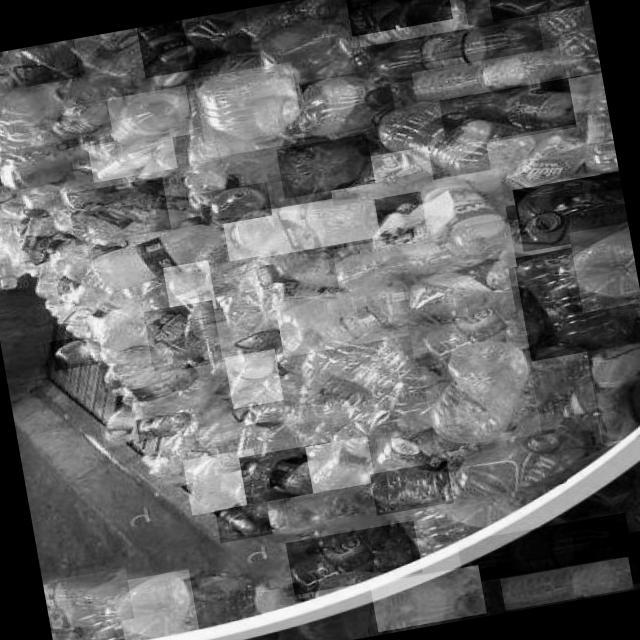defected: (362, 87, 522, 200), (512, 237, 640, 361), (330, 218, 516, 298), (418, 334, 542, 452), (351, 15, 544, 89), (456, 511, 632, 583), (220, 191, 380, 263), (438, 72, 588, 146), (410, 42, 588, 104), (192, 62, 304, 158), (85, 219, 228, 294), (394, 244, 514, 330), (284, 520, 421, 595), (274, 280, 409, 356), (436, 428, 567, 504), (484, 124, 602, 208), (512, 171, 630, 252), (418, 168, 512, 259), (284, 66, 396, 140), (368, 564, 486, 632), (203, 256, 275, 363), (66, 177, 172, 246), (498, 556, 632, 610), (567, 222, 640, 312), (325, 146, 434, 206), (275, 134, 374, 198), (114, 568, 200, 640), (408, 302, 518, 358), (238, 442, 336, 504), (142, 300, 222, 374), (43, 568, 133, 633), (182, 448, 263, 516), (586, 341, 640, 443), (566, 72, 618, 176), (352, 0, 467, 47), (106, 85, 192, 147), (49, 79, 129, 141), (368, 460, 452, 516), (86, 130, 176, 182), (0, 139, 74, 193), (304, 436, 374, 493), (344, 0, 452, 36), (180, 8, 252, 62), (136, 18, 198, 78), (223, 348, 282, 408), (197, 182, 271, 226), (8, 213, 64, 271), (162, 260, 216, 316), (18, 38, 79, 86), (29, 263, 88, 310), (214, 501, 272, 543), (96, 400, 146, 448), (482, 0, 589, 21), (99, 357, 161, 392), (608, 523, 640, 586), (50, 333, 103, 371), (134, 411, 192, 442), (0, 244, 28, 292)
